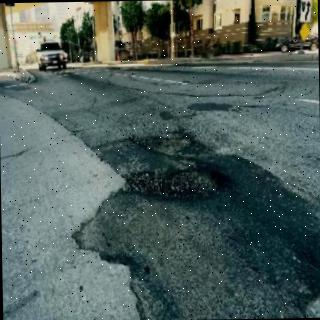pothole: (124, 162, 235, 200)
